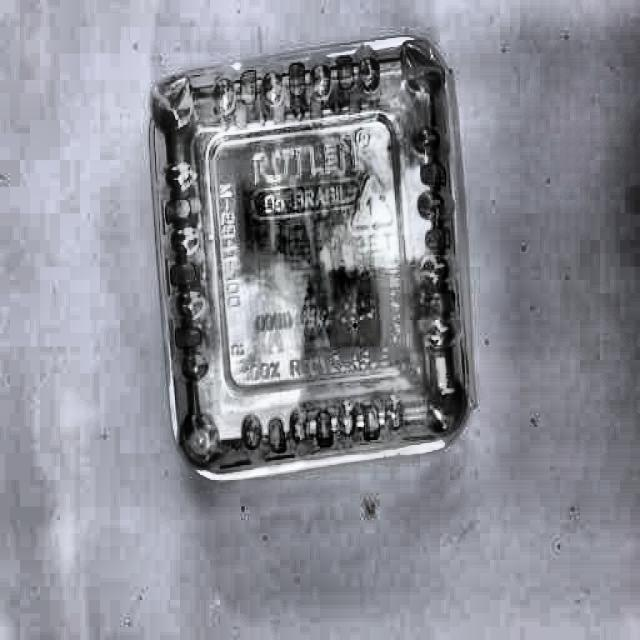plastic: (147, 34, 480, 478)
